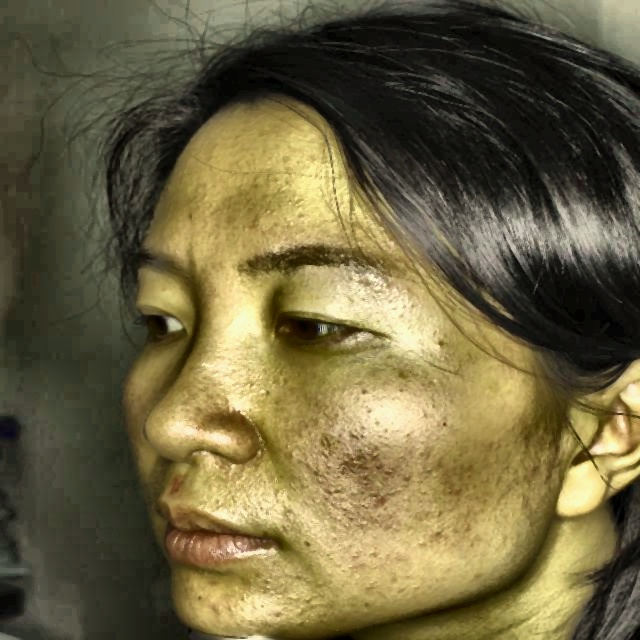comedone: (162, 476, 184, 496), (386, 229, 400, 251)
